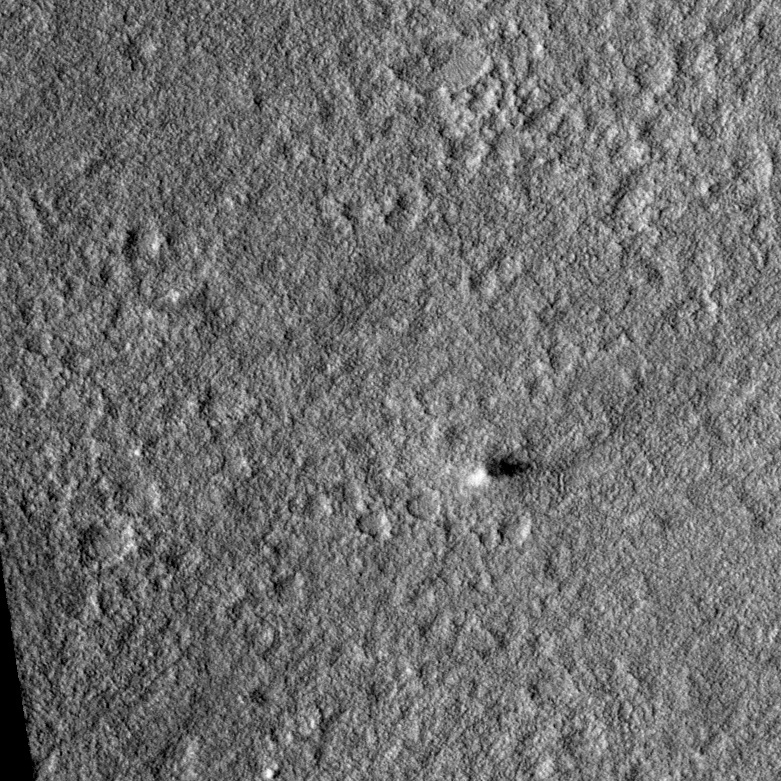dust_devil: (463, 448, 539, 491)
